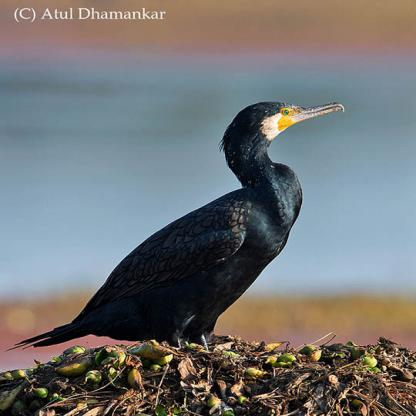Burung: (5, 100, 346, 367)
